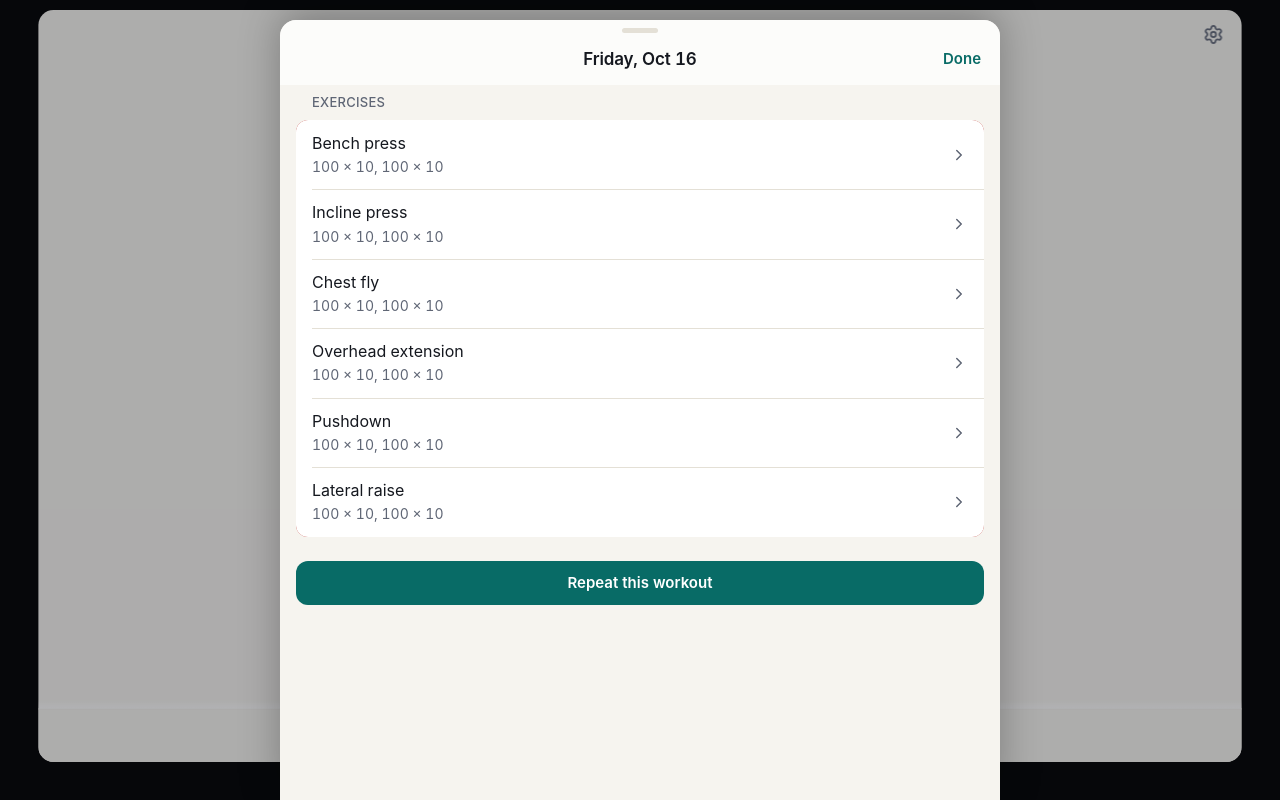
Repeat this workout › says when there's nothing left to repeat today
What coordinates should you click on to do the following:
click the button "Repeat this workout"
I would click on:
 (640, 583)
Its box is top-left (296, 561), bottom-right (984, 605).
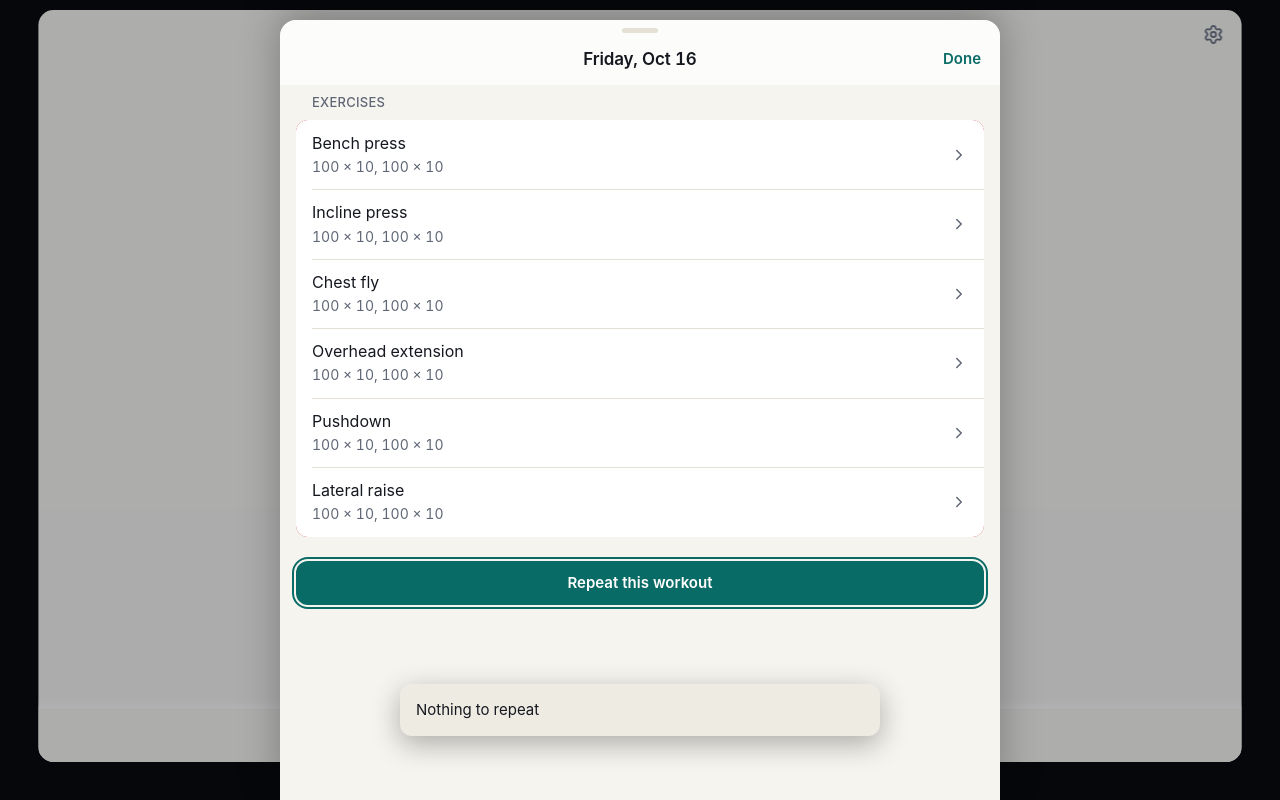
Result: the message reads "Nothing to repeat" at top-left (416, 700), bottom-right (539, 719)
